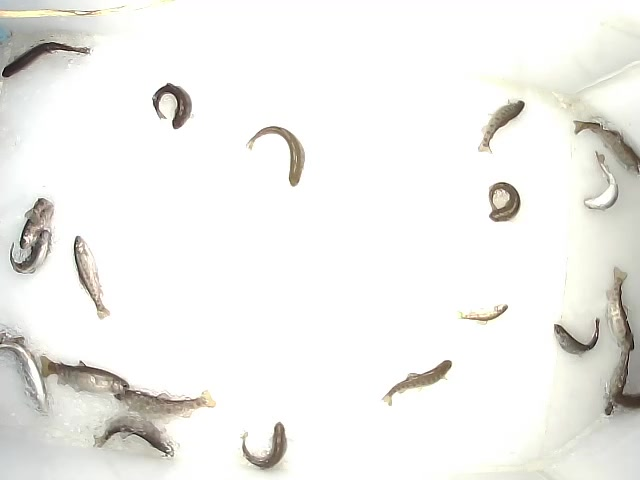fish: (572, 118, 640, 180), (245, 124, 306, 190), (39, 353, 130, 395), (1, 341, 51, 417), (379, 358, 454, 408), (1, 40, 92, 80), (93, 413, 178, 454), (603, 264, 640, 354), (476, 95, 526, 156), (238, 421, 293, 473), (113, 389, 218, 416), (603, 345, 638, 419), (583, 150, 620, 212), (151, 82, 196, 131), (552, 315, 601, 359), (487, 181, 521, 224), (454, 302, 510, 326)
